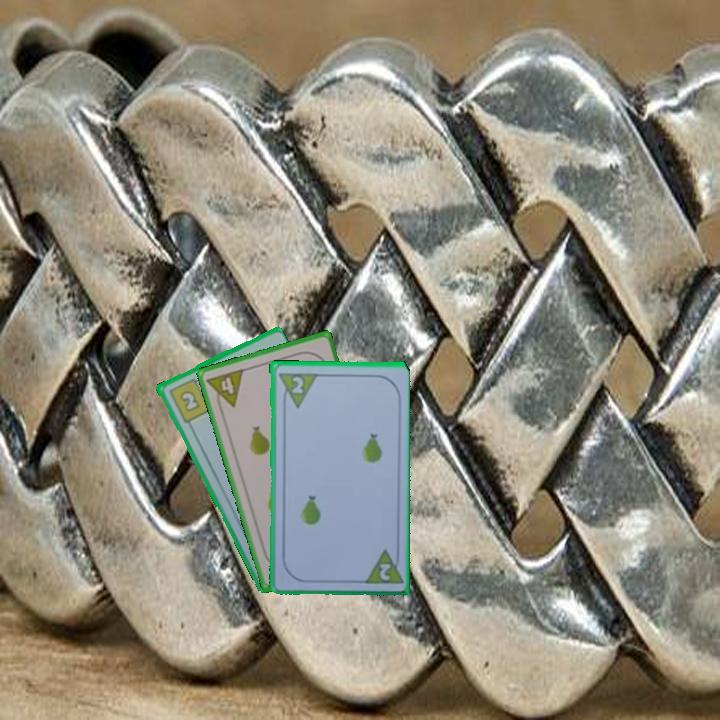2b: (165, 374, 213, 425)
2p: (275, 369, 318, 410), (376, 560, 393, 583)
4p: (203, 365, 247, 414)
